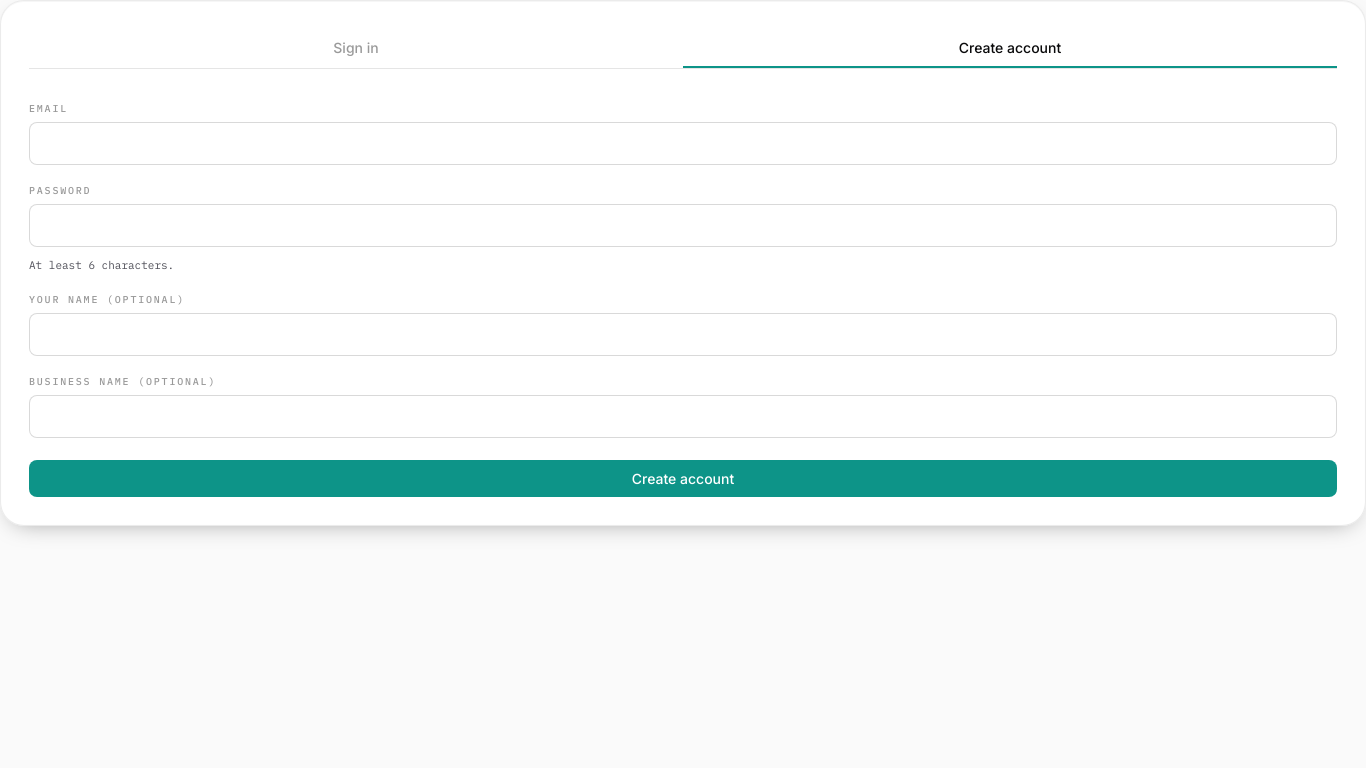
Test: AuthForm › shows validation error when password is empty
The width and height of the screenshot is (1366, 768).
Click the tab "Sign in" at point(356, 48), box x1=29 y1=29 x2=683 y2=68
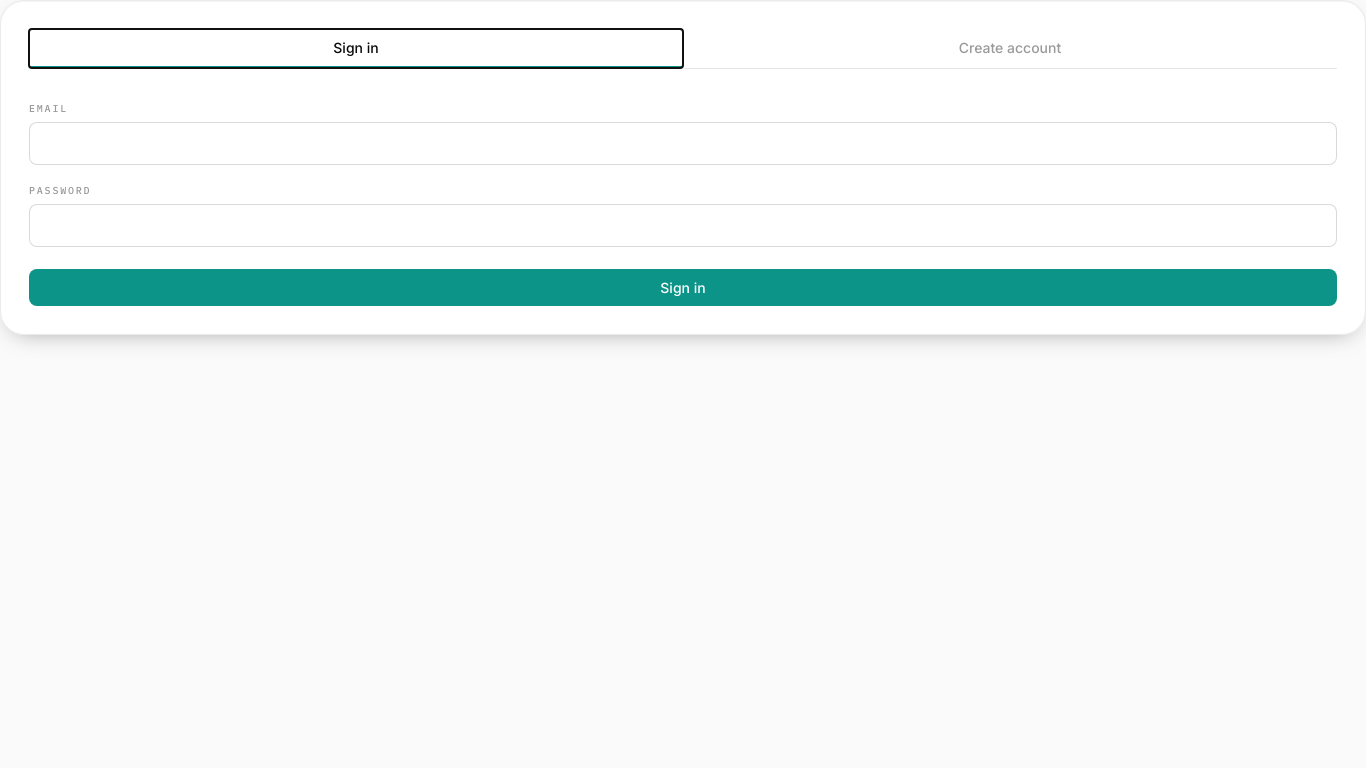
Type "a@b.com" into the field labelled "Email" at point(683, 144), box x1=29 y1=122 x2=1337 y2=165
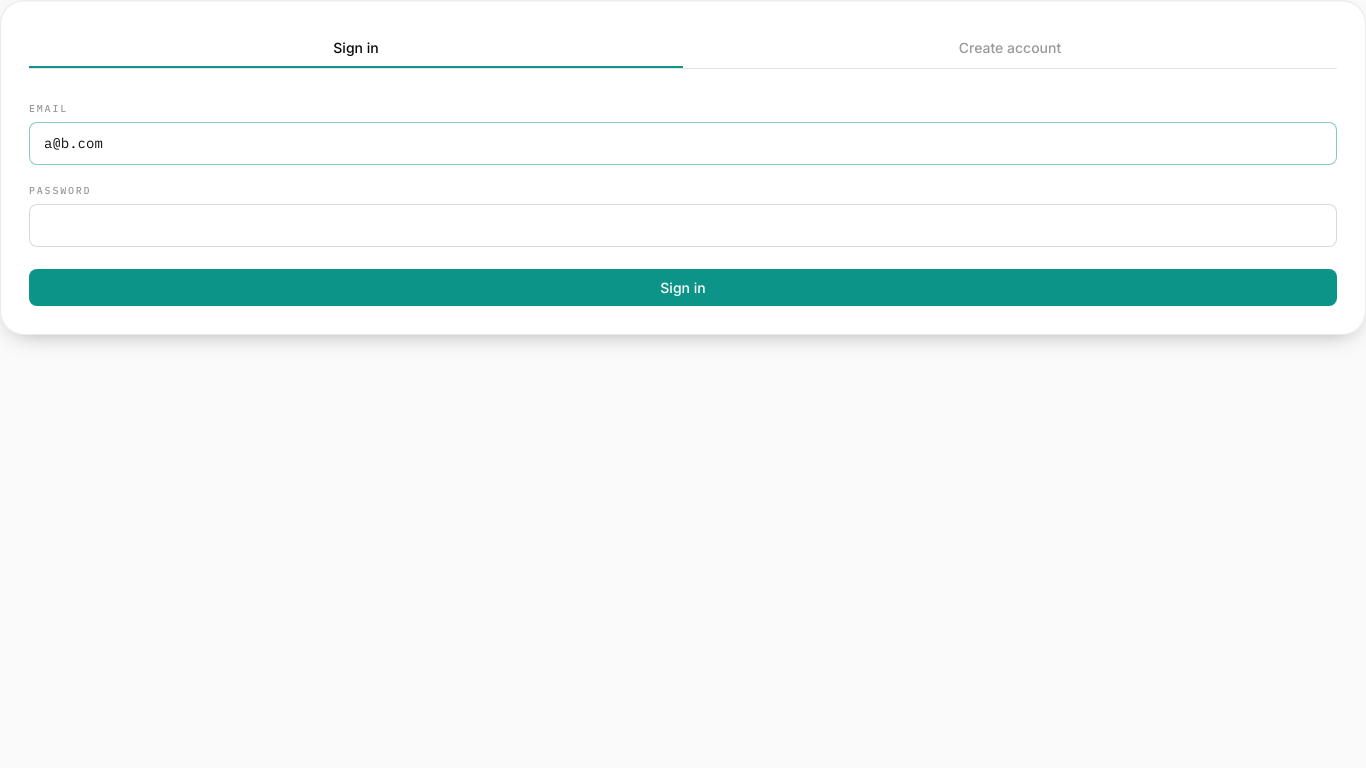
Click the button "Sign in" at point(683, 288), box x1=29 y1=269 x2=1337 y2=306
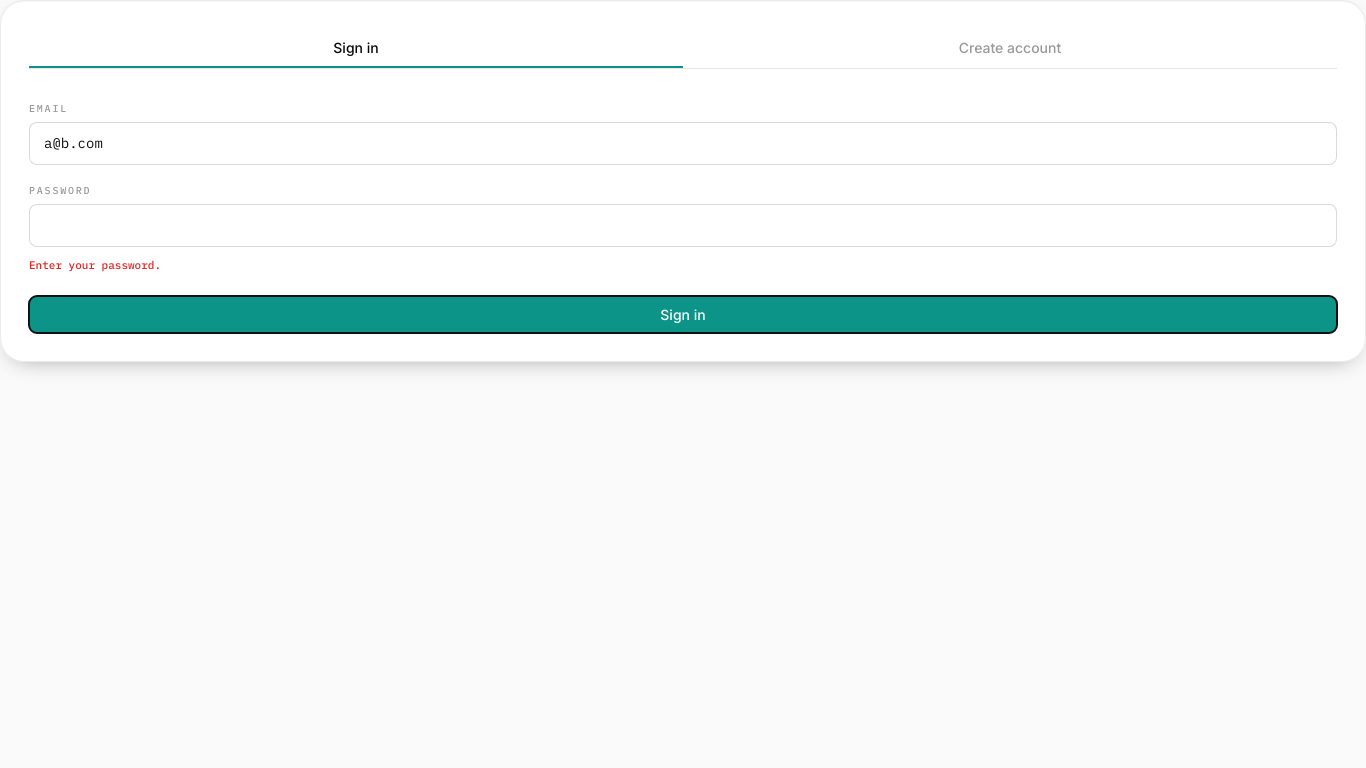
Now the text "Enter your password." is shown, box x1=29 y1=258 x2=161 y2=272
